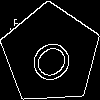O: (26, 29, 84, 89)
